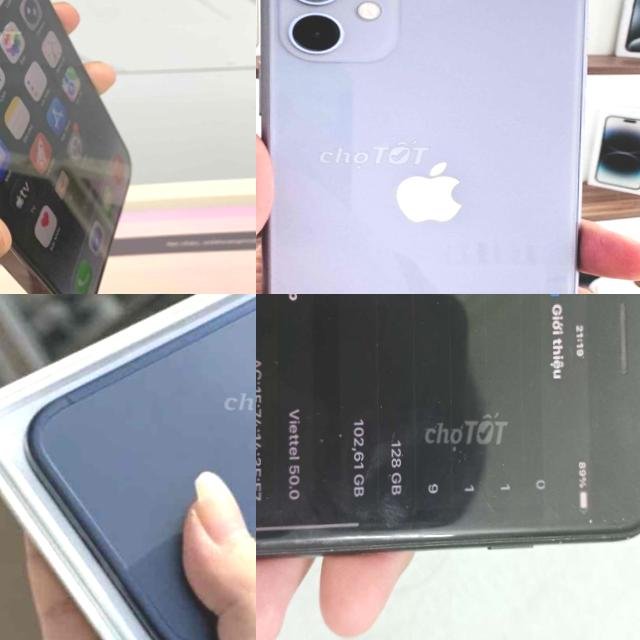scratch: (256, 531, 461, 553), (583, 512, 640, 534)
